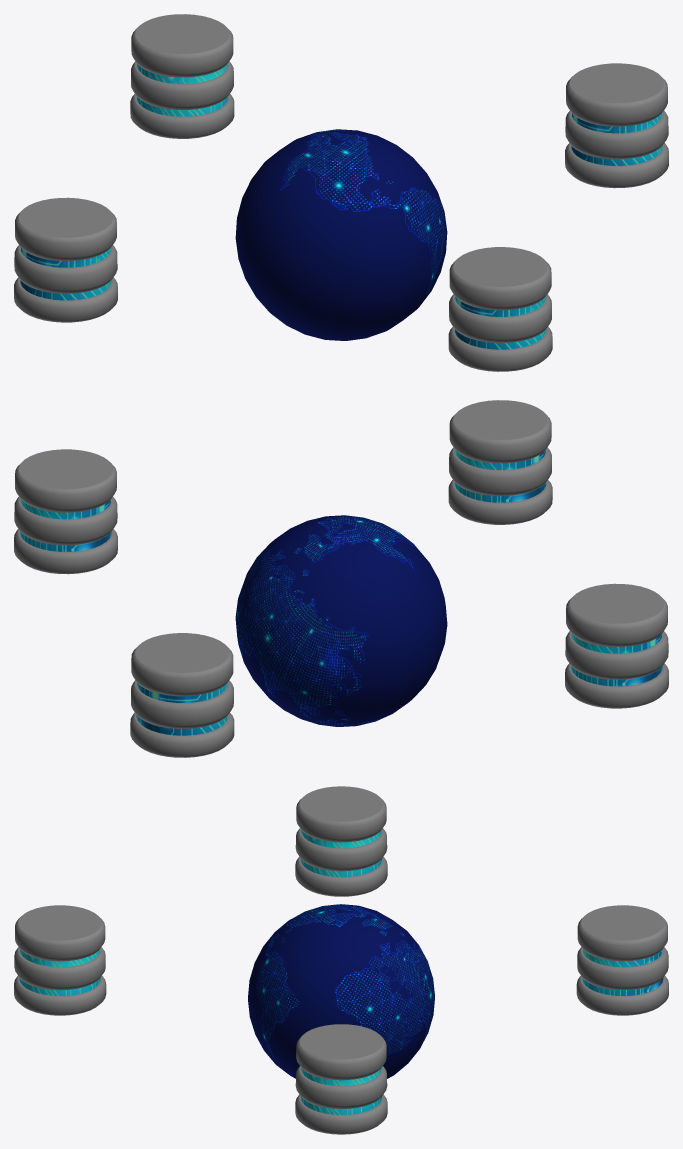
File: 0escena1.gltf
3 renders of one model, top to bottom at view 1: azimuth 30°, elevation 25°; view 2: azimuth 150°, elevation 25°; view 3: azimuth 270°, elevation 25°, orthographic. The views are drawn at different scales.
Parts seen in each view (by area): view 1: Sphere, Cylinder.000, Cylinder.001, Cylinder.002, Cylinder.003; view 2: Sphere, Cylinder.001, Cylinder.000, Cylinder.002, Cylinder.003; view 3: Sphere, Cylinder.002, Cylinder.003, Cylinder.000, Cylinder.001.
Boxes of the visible parts, bbox=[...] form: Sphere: bbox=[235, 129, 447, 340]; Cylinder.000: bbox=[448, 247, 552, 371]; Cylinder.001: bbox=[130, 14, 234, 138]; Cylinder.002: bbox=[565, 63, 668, 188]; Cylinder.003: bbox=[14, 197, 117, 322]; Sphere: bbox=[235, 515, 447, 726]; Cylinder.001: bbox=[130, 633, 234, 757]; Cylinder.000: bbox=[448, 400, 552, 524]; Cylinder.002: bbox=[14, 449, 117, 574]; Cylinder.003: bbox=[565, 583, 668, 708]; Sphere: bbox=[248, 904, 434, 1078]; Cylinder.002: bbox=[295, 1024, 387, 1134]; Cylinder.003: bbox=[295, 786, 387, 896]; Cylinder.000: bbox=[14, 905, 106, 1015]; Cylinder.001: bbox=[576, 905, 668, 1015].
Size of the model in its own units: 13.97 by 3.99 by 13.97.
Materials: 3 (3 with a texture image).
